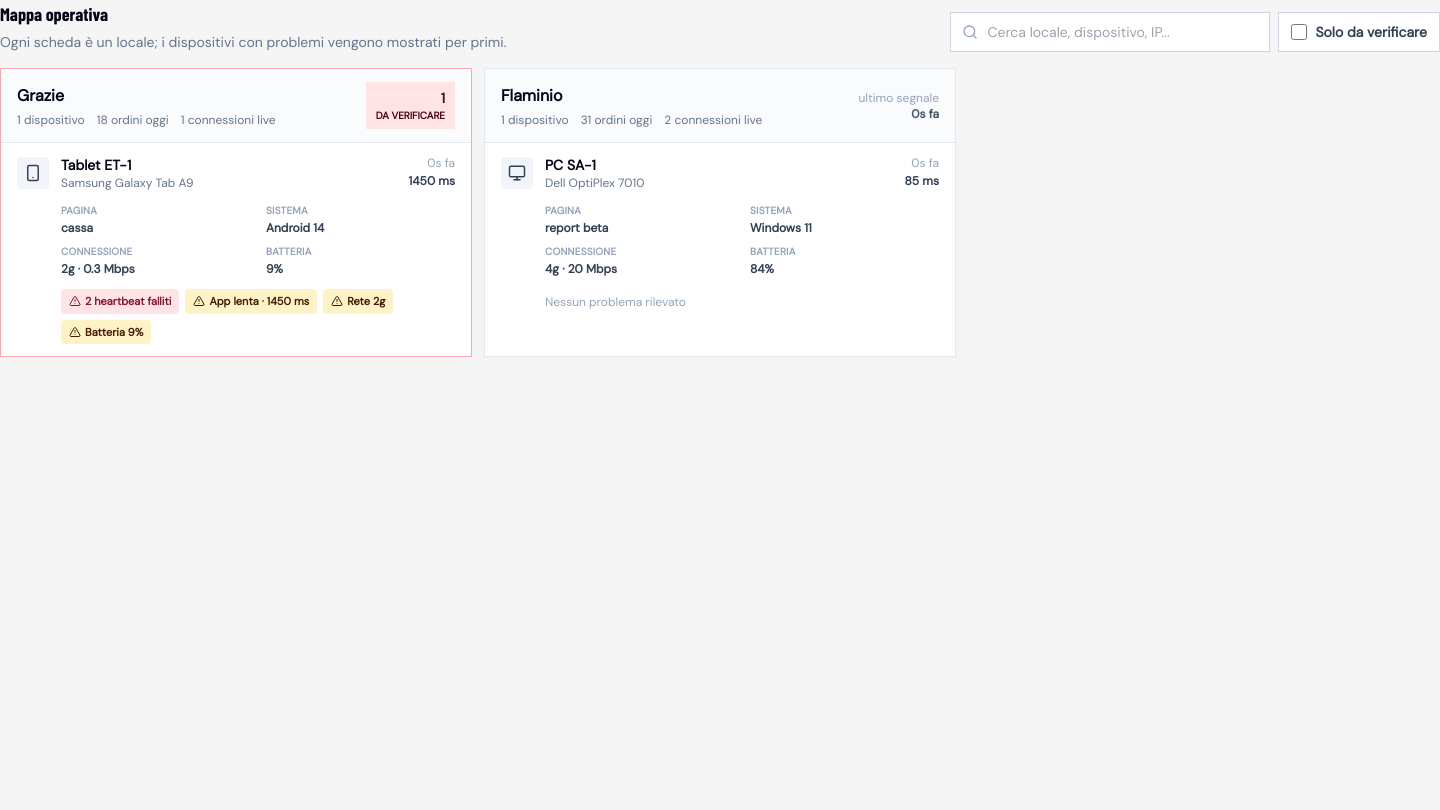
DiagnosticsDevicesView control room › il dettaglio spiega il problema e conserva tutte le informazioni tecniche
The image size is (1440, 810).
Click the button with test id "diagnostic-device-grazie-tablet-1": [33, 173] box x1=1 y1=143 x2=471 y2=356
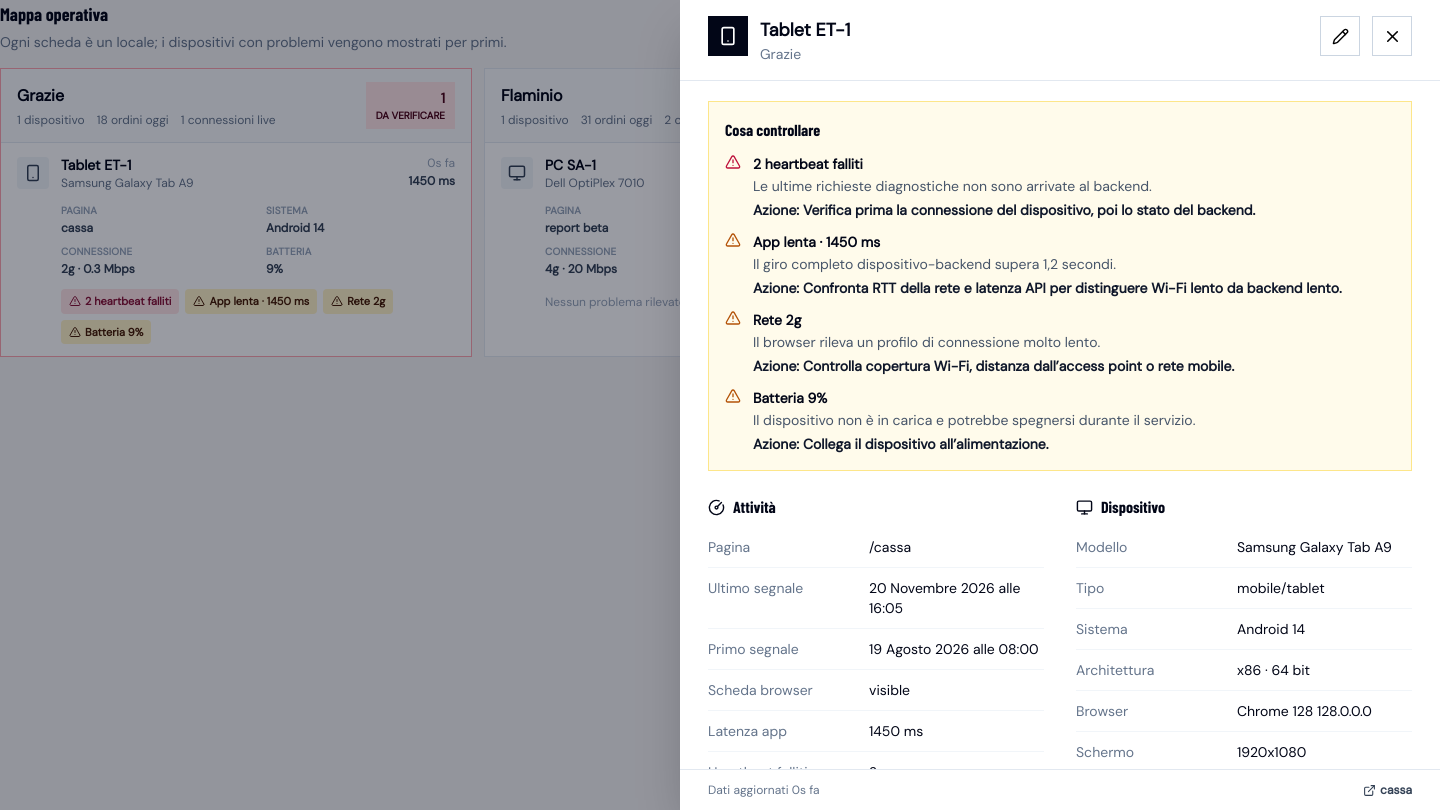
Now the dialog is shown
Now the dialog shows "Cosa controllare", box x1=725 y1=120 x2=820 y2=139
Now the dialog shows "heartbeat falliti", box x1=708 y1=763 x2=808 y2=781
